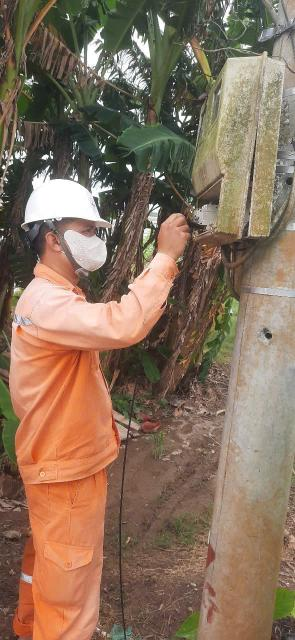helmet: (18, 173, 125, 241)
